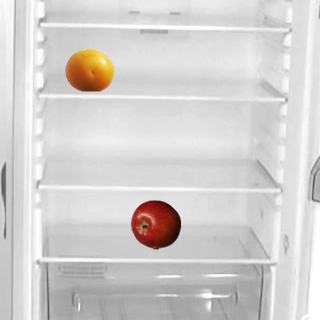Apple Braeburn: (130, 199, 180, 249)
Cherry Wax Yellow: (64, 44, 114, 94)
